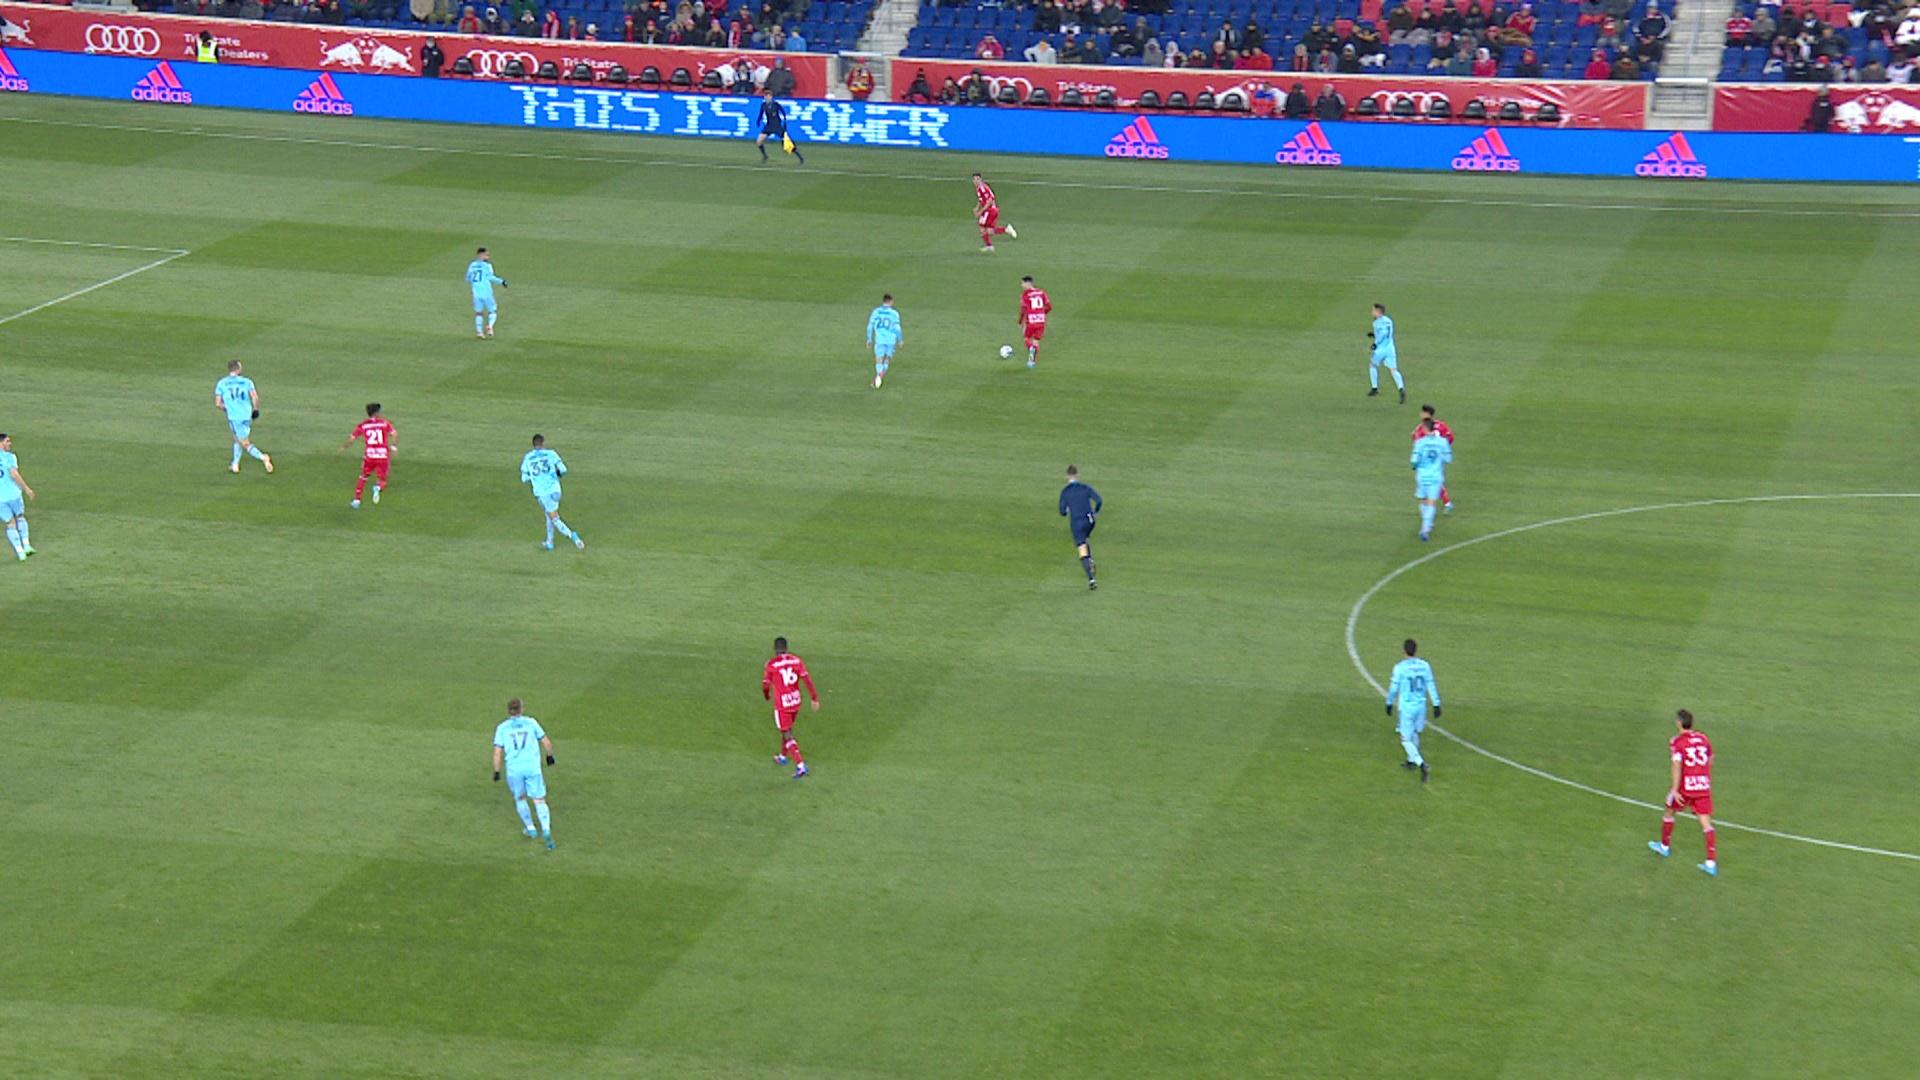football: (999, 344, 1014, 359)
